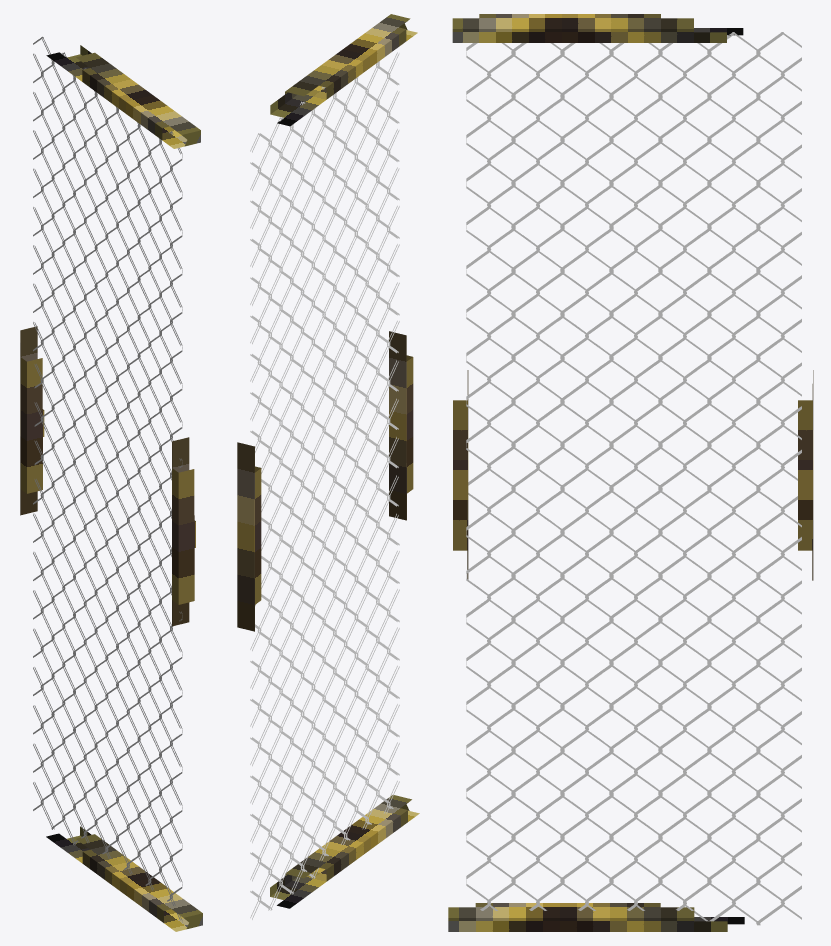
The model's file is men.FBX.
3 renders of one model, left to right at view 1: azimuth 30°, elevation 25°; view 2: azimuth 150°, elevation 25°; view 3: azimuth 270°, elevation 25°, orthographic. The views are drawn at different scales.
Visible parts, largest first — view 1: Object09; view 2: Object09; view 3: Object09.
Part boxes in pixels (x1,y1,x2,y2): Object09: [20, 36, 202, 931]; Object09: [237, 14, 419, 919]; Object09: [448, 14, 813, 931].
Size of the model in its own units: 2.69 by 27.86 by 75.44.
